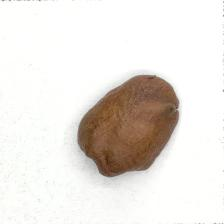NG: (77, 133, 148, 177)
